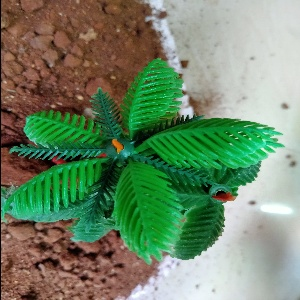plant: (2, 57, 287, 270)
